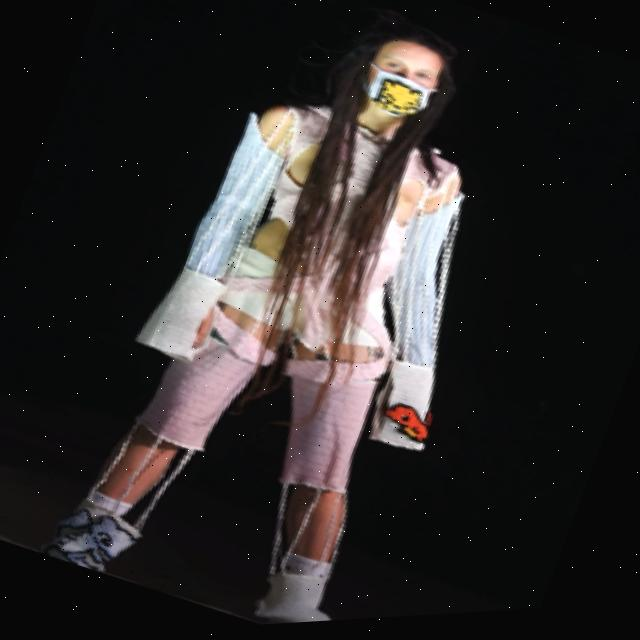Mask: (351, 43, 448, 135)
